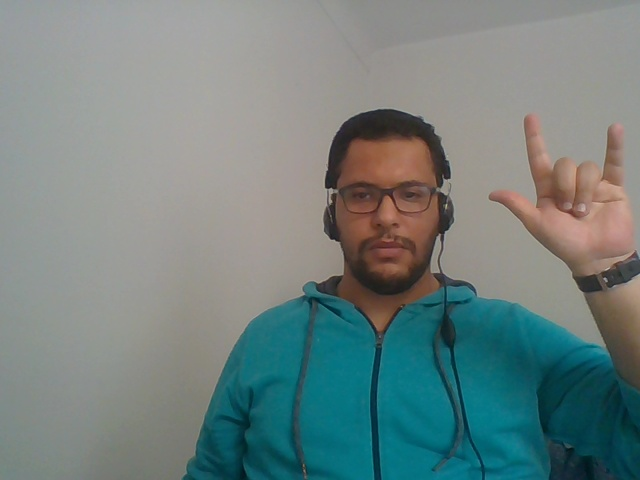iloveyou: (479, 92, 640, 357)
